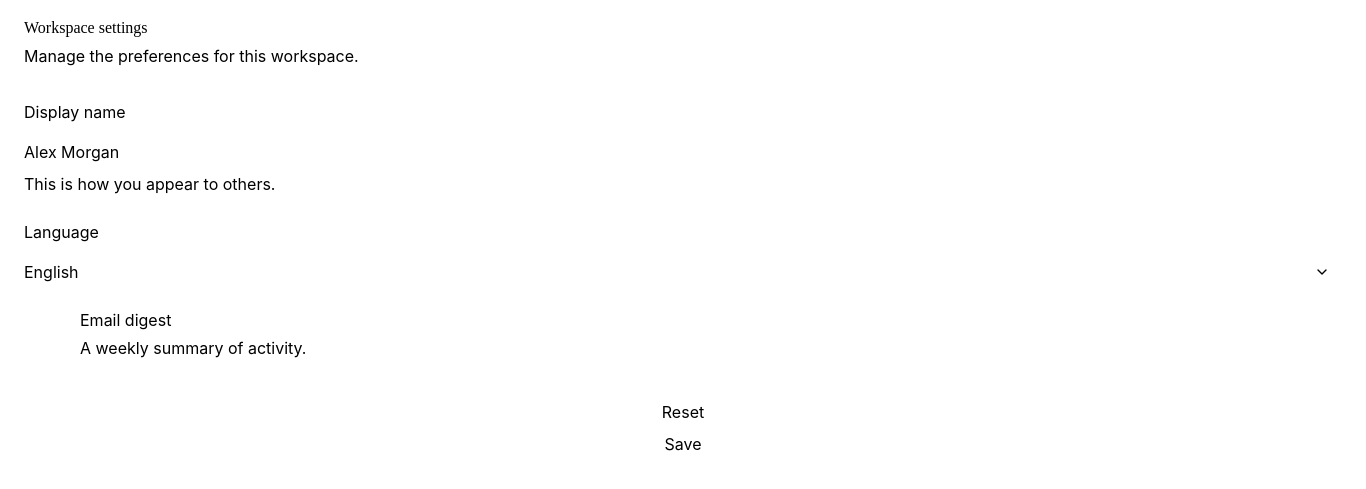
Test: SettingsSection › restores the last-saved values when Reset is pressed
Replace the text in the field labelled "Display name" with "Changed" at (683, 152), box left=24, top=140, right=1342, bottom=164
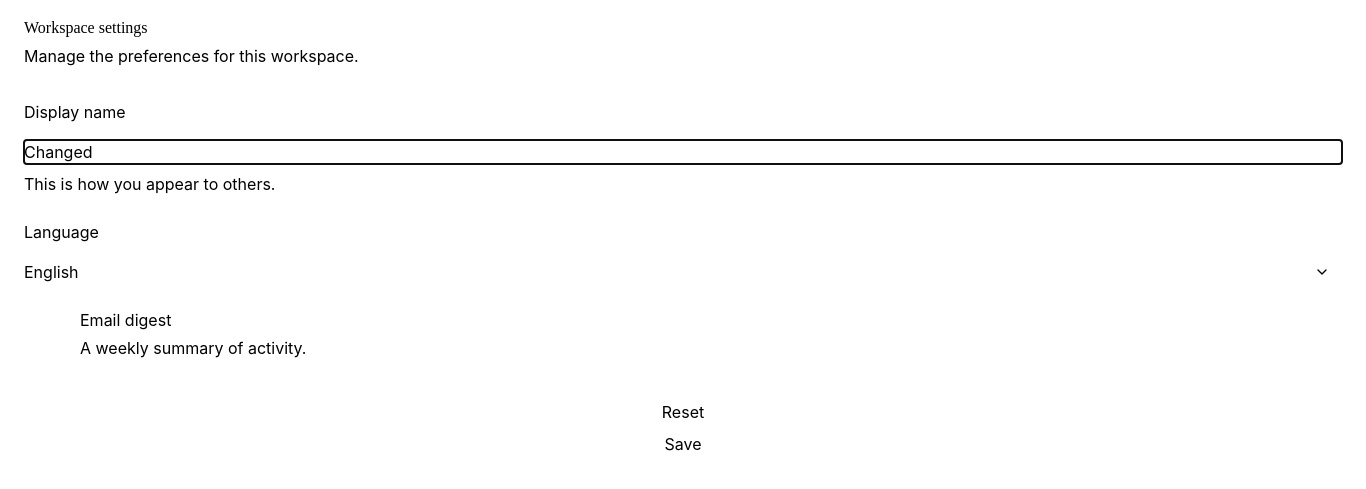
Click the button "Reset".
click(683, 412)  # box left=24, top=400, right=1342, bottom=424
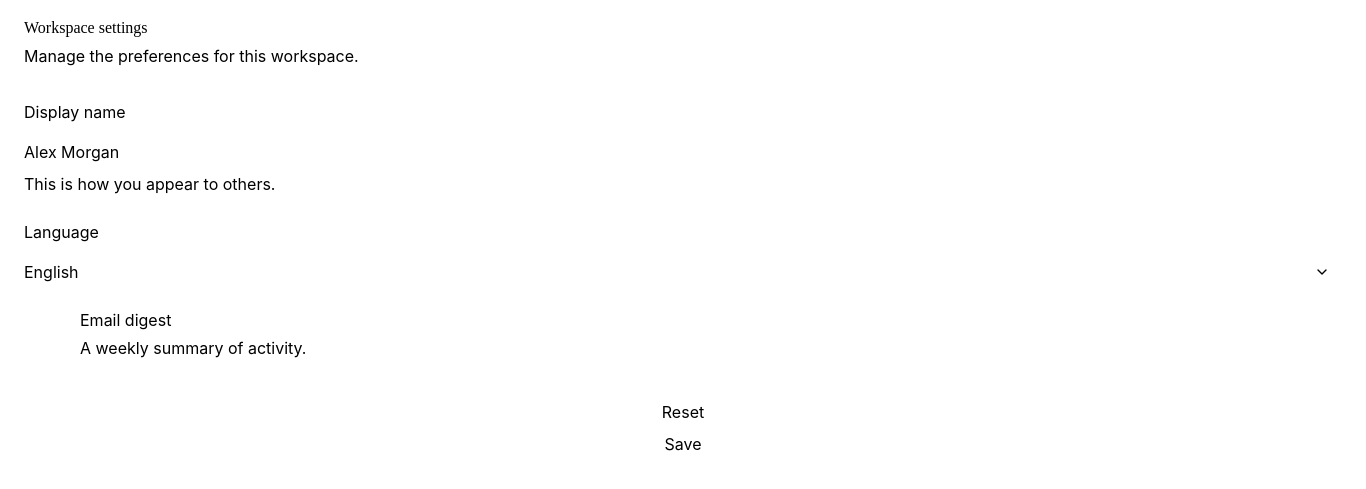
Expected: the button "Save" is disabled, left=24, top=432, right=1342, bottom=456
Result: the field labelled "Display name" holds "Alex Morgan" at left=24, top=140, right=1342, bottom=164
